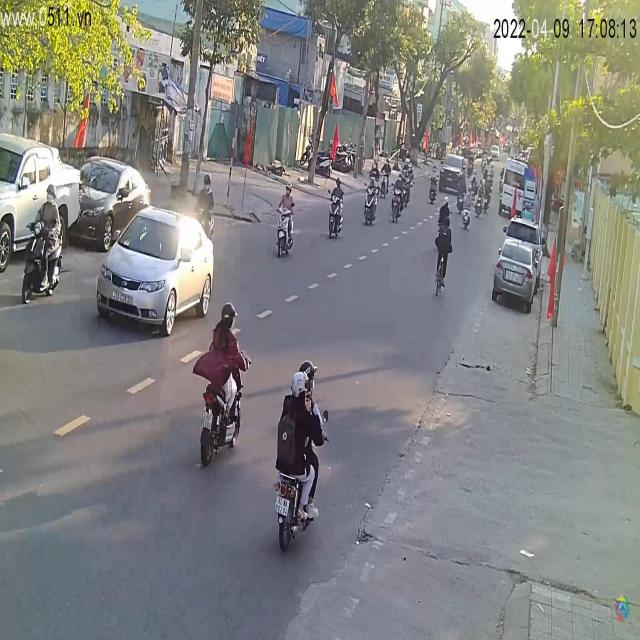car: (94, 206, 215, 337), (0, 130, 81, 278), (74, 159, 154, 252), (494, 226, 544, 313), (437, 147, 467, 200)
motorcycle: (272, 392, 326, 552), (195, 331, 251, 478), (273, 200, 298, 262), (362, 179, 380, 230), (389, 177, 404, 224), (328, 203, 344, 240)
